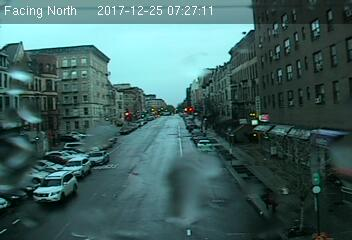car: (31, 170, 78, 204), (60, 156, 91, 179), (86, 150, 111, 166)
